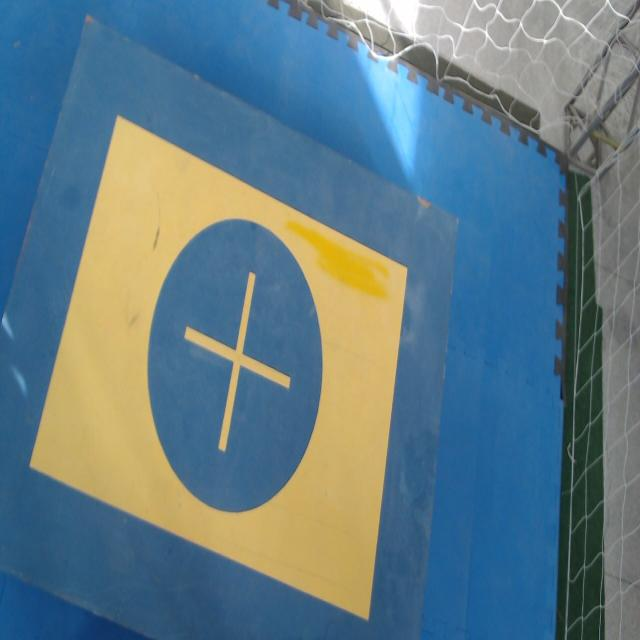base_inicio: (30, 112, 408, 621)
